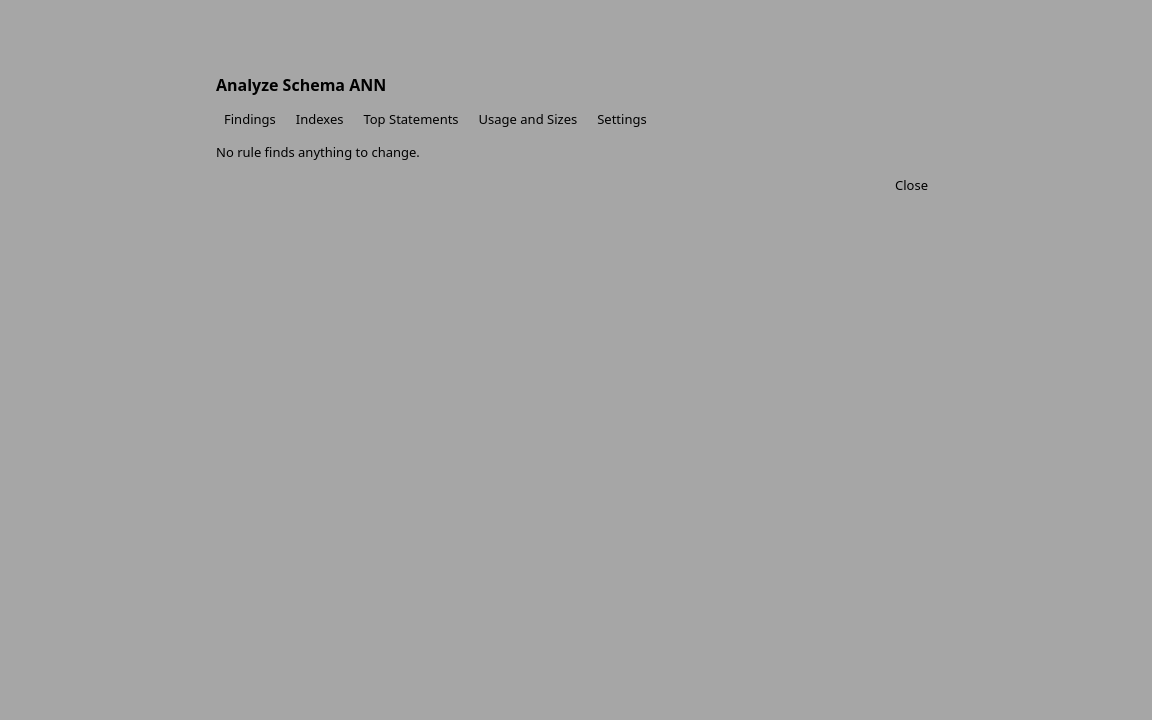
the analyzer of a schema › says when nothing is found, and why it could not read the schema [DESIGN] D50
Later steps or results of the test are not shown.
Expected: the text "No rule finds anything to change." is shown, [216, 143, 420, 161]
Click the tab "Indexes" at (320, 119), box [288, 108, 352, 130]
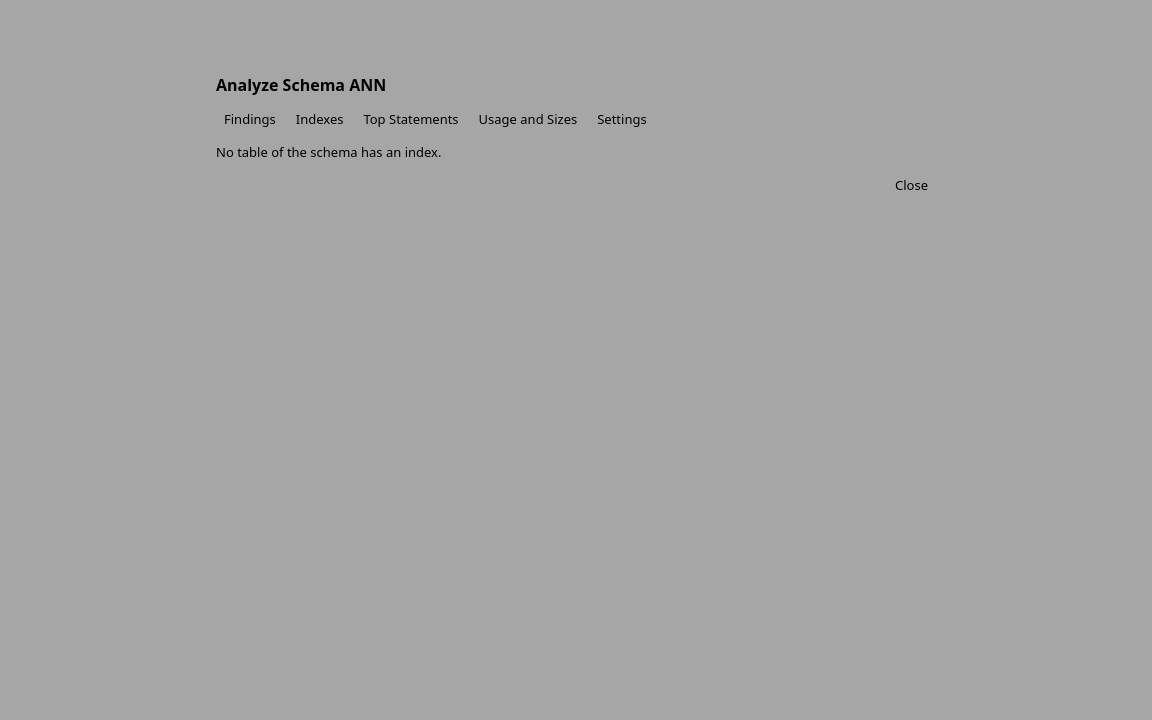
Result: the text "No table of the schema has an index." is shown at [216, 143, 442, 161]
Click the tab "Settings" at (622, 119), box [589, 108, 655, 130]
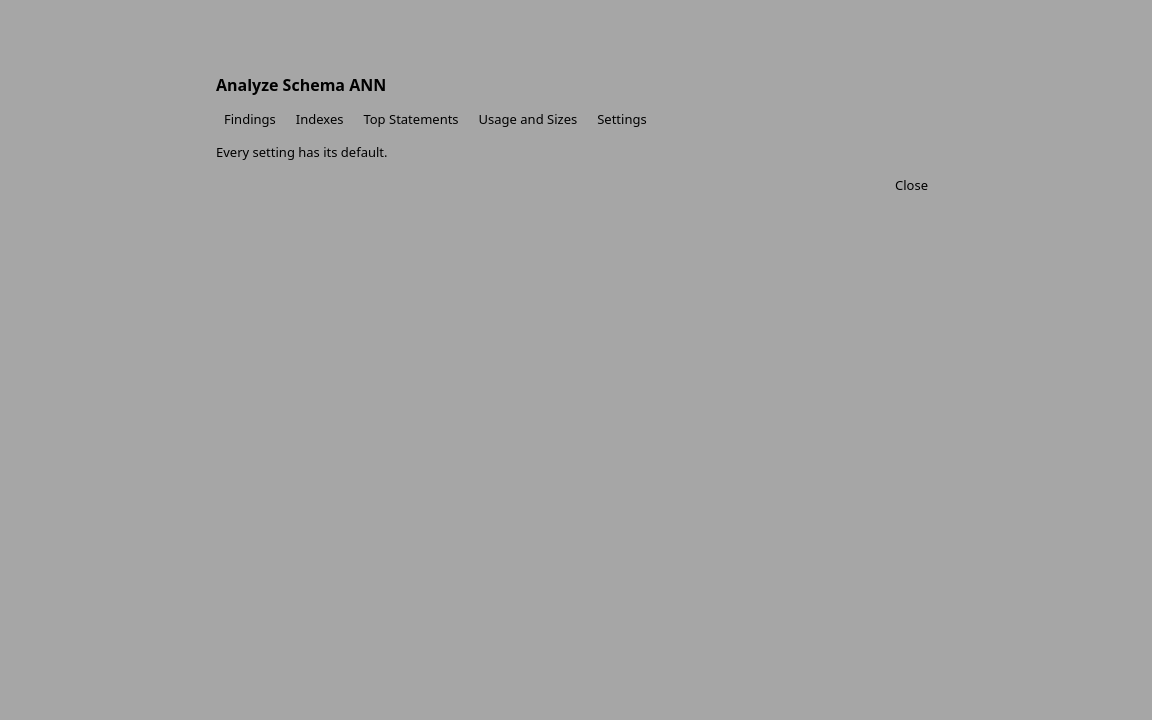
Result: the text "Every setting has its default." is shown at [216, 143, 388, 161]
